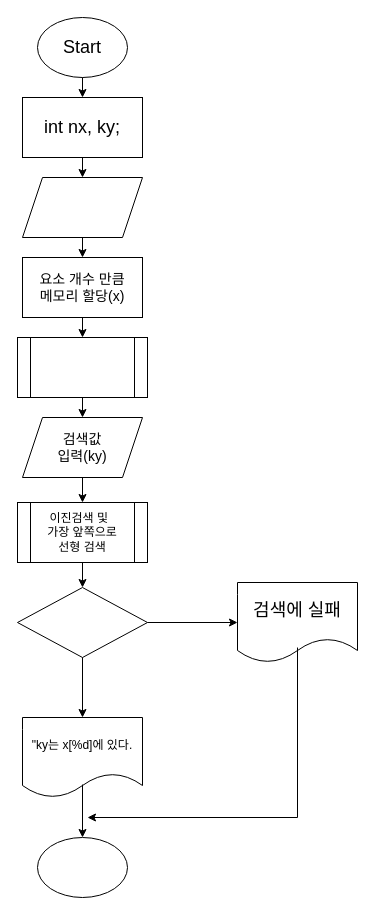
This 375x915 diagram has some shape labels left out. Each missing label, with the box of its shape:
End: (36, 836, 128, 898)
x배열에 값을 오름차순으로 정렬: (16, 336, 148, 398)
검색값 포인터 ==NULL: (16, 586, 148, 658)
요소개수 (nx)입력: (22, 176, 142, 238)
